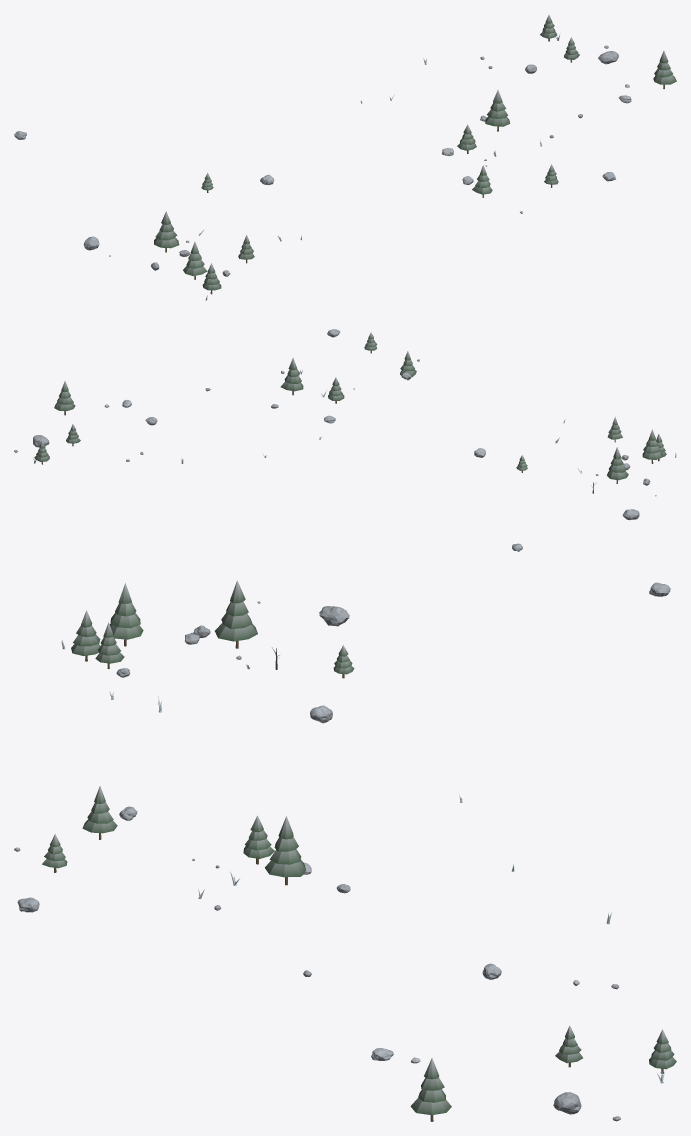
Rendered from frost_land_scatter_c21_10.glb.
3 renders of one model, top to bottom at view 1: azimuth 30°, elevation 25°; view 2: azimuth 150°, elevation 25°; view 3: azimuth 270°, elevation 25°, orthographic. The views are drawn at different scales.
Visible parts, largest first — view 1: frost_land_scatter_c21_10; view 2: frost_land_scatter_c21_10; view 3: frost_land_scatter_c21_10.
Boxes of the visible parts, left/top/right/bottom form: frost_land_scatter_c21_10: left=14, top=14, right=676, bottom=300; frost_land_scatter_c21_10: left=14, top=329, right=676, bottom=551; frost_land_scatter_c21_10: left=14, top=580, right=676, bottom=1121.
Size of the model in its own units: 250 by 32.61 by 141.
